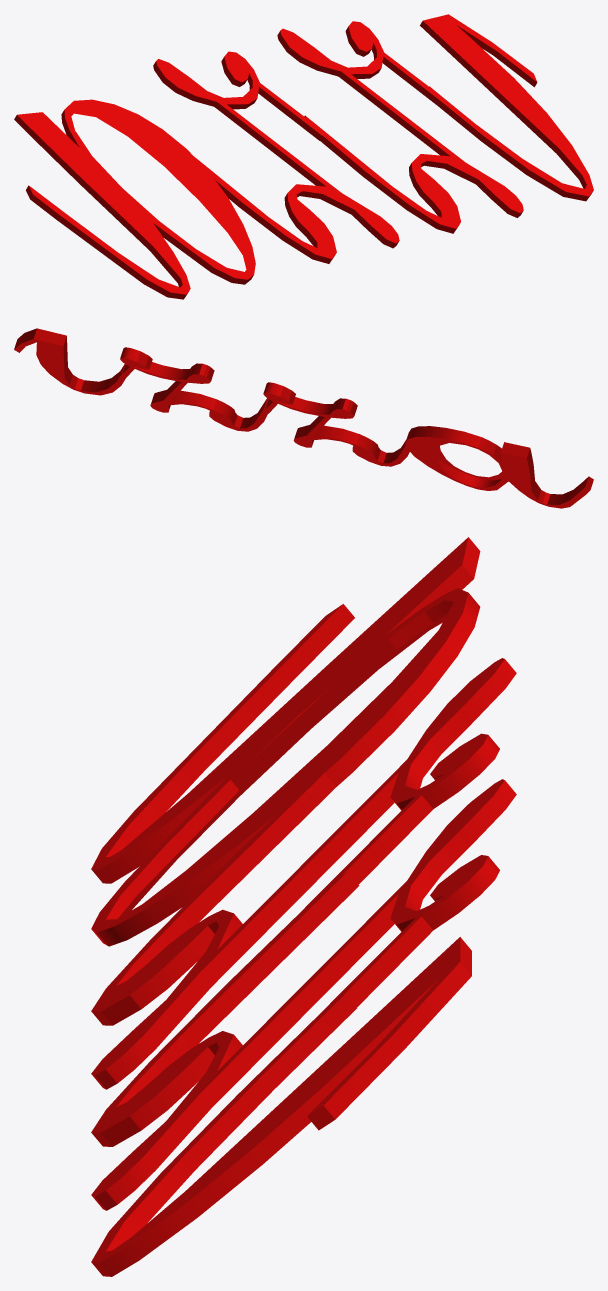
The model's file is original-13.obj.
The picture shows the model from 3 angles, top to bottom: view 1: azimuth 30°, elevation 25°; view 2: azimuth 150°, elevation 25°; view 3: azimuth 270°, elevation 25°; orthographic projection. The views are drawn at different scales.
Parts seen in each view (by area): view 1: #ID66; view 2: #ID66; view 3: #ID66.
Boxes of the visible parts, x1,y1,x2,y2 form: #ID66: [14, 14, 593, 299]; #ID66: [14, 328, 593, 508]; #ID66: [91, 537, 516, 1276].
Size of the model in its own units: 0.0977 by 0.0274 by 0.0355.
